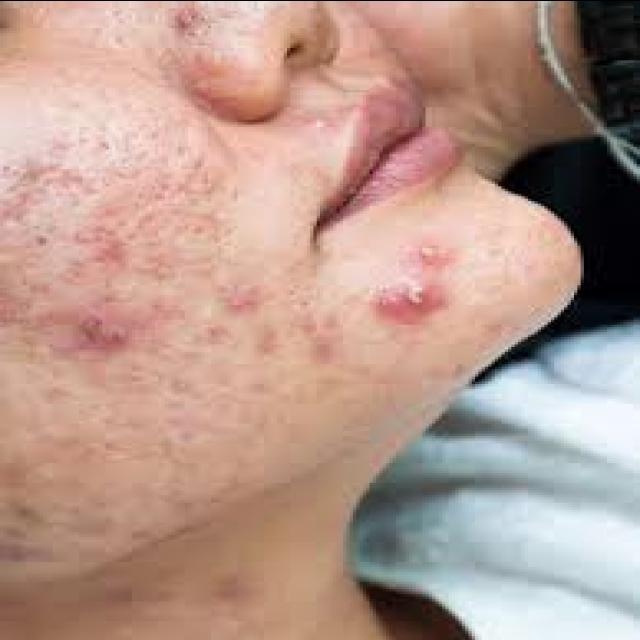Acne: (367, 276, 449, 326), (71, 306, 133, 358), (398, 233, 460, 276), (166, 1, 209, 38), (213, 286, 261, 316), (92, 236, 130, 268)
